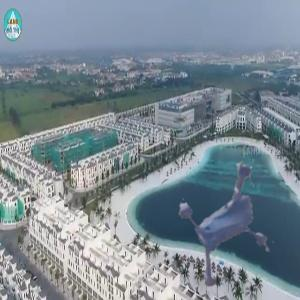drone: (155, 136, 295, 276)
